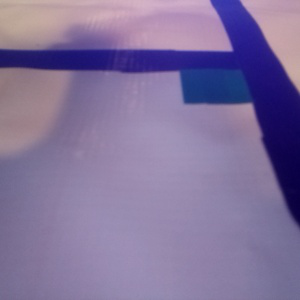bottom_left: (180, 53, 274, 104)
